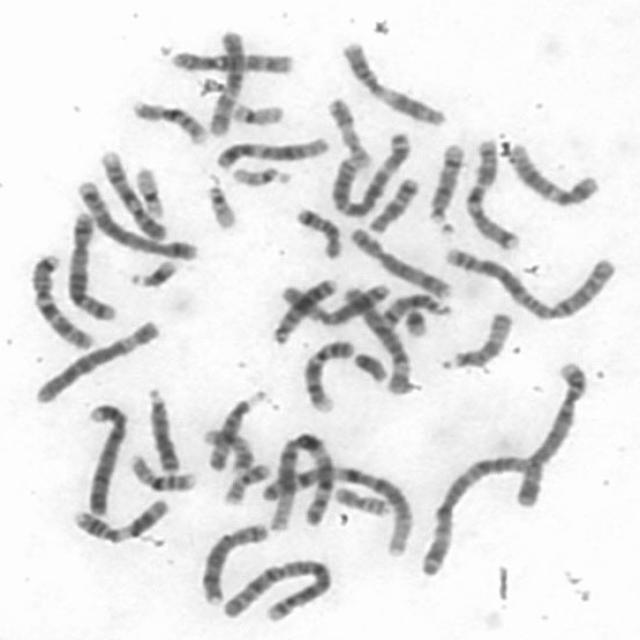A1: (258, 458, 409, 558), (263, 429, 344, 532)
A2: (438, 239, 619, 323), (216, 555, 334, 623)
A3: (415, 449, 544, 578), (326, 127, 412, 217)
B4: (512, 357, 590, 509), (81, 398, 130, 516)
B5: (72, 177, 200, 263), (63, 211, 119, 323)
C10: (211, 24, 247, 139), (168, 46, 296, 75)
C11: (336, 36, 452, 128), (67, 493, 173, 544)
C12: (502, 139, 603, 209), (211, 132, 332, 172)
C6: (31, 314, 163, 405), (337, 281, 414, 397)
C7: (25, 250, 97, 350), (462, 137, 522, 250)
C8: (346, 224, 453, 300), (194, 517, 271, 606)
C9: (94, 145, 170, 242), (298, 333, 358, 412)
D13: (268, 275, 339, 347), (142, 384, 182, 476)
D14: (424, 140, 466, 226), (377, 290, 453, 330)
D15: (204, 386, 269, 474), (440, 308, 514, 372)
E16: (128, 96, 210, 146), (123, 448, 202, 494)
E17: (324, 94, 374, 170), (198, 425, 256, 473)
E18: (364, 172, 421, 235), (290, 204, 344, 260)
F19: (130, 161, 166, 219), (226, 99, 285, 127)
F20: (218, 460, 272, 506), (333, 484, 391, 518)
G21: (123, 256, 180, 290), (399, 304, 430, 339)
G22: (203, 177, 239, 231), (228, 162, 293, 189)
X: (280, 278, 393, 324)
Y: (349, 348, 390, 386)
